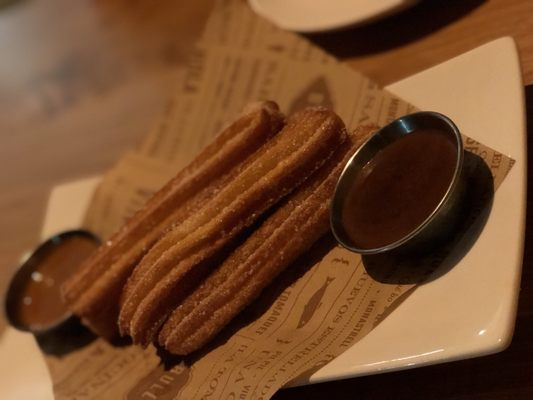pizza: (327, 111, 480, 287)
